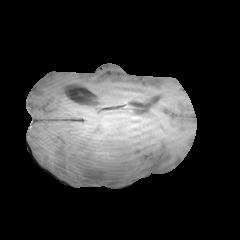glioma: (52, 125, 152, 186)
